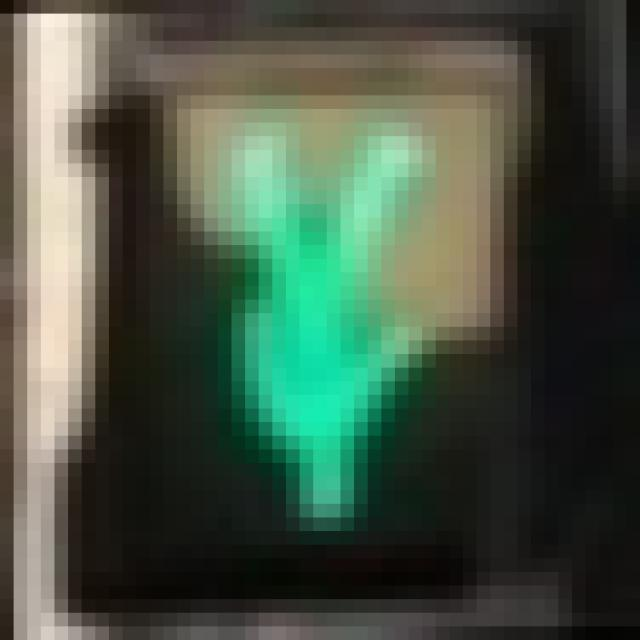geen-crossing: (177, 81, 436, 518)
